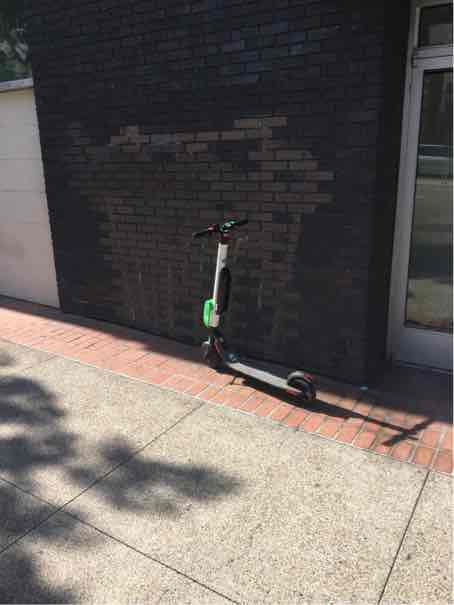scooter: (173, 191, 432, 433)
